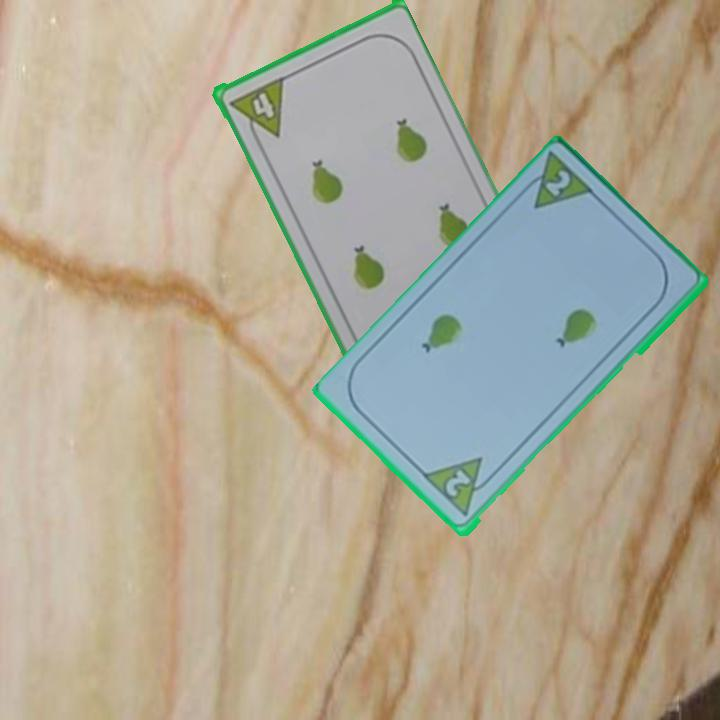2p: (442, 466, 474, 501), (541, 167, 574, 200)
4p: (224, 73, 286, 147)
